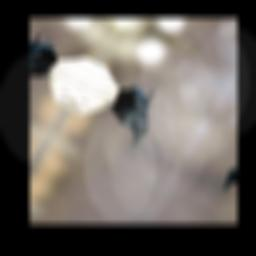Crow: (92, 76, 168, 148)
